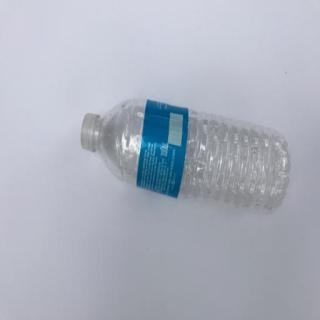Plastic-bottle: (80, 97, 294, 218)
